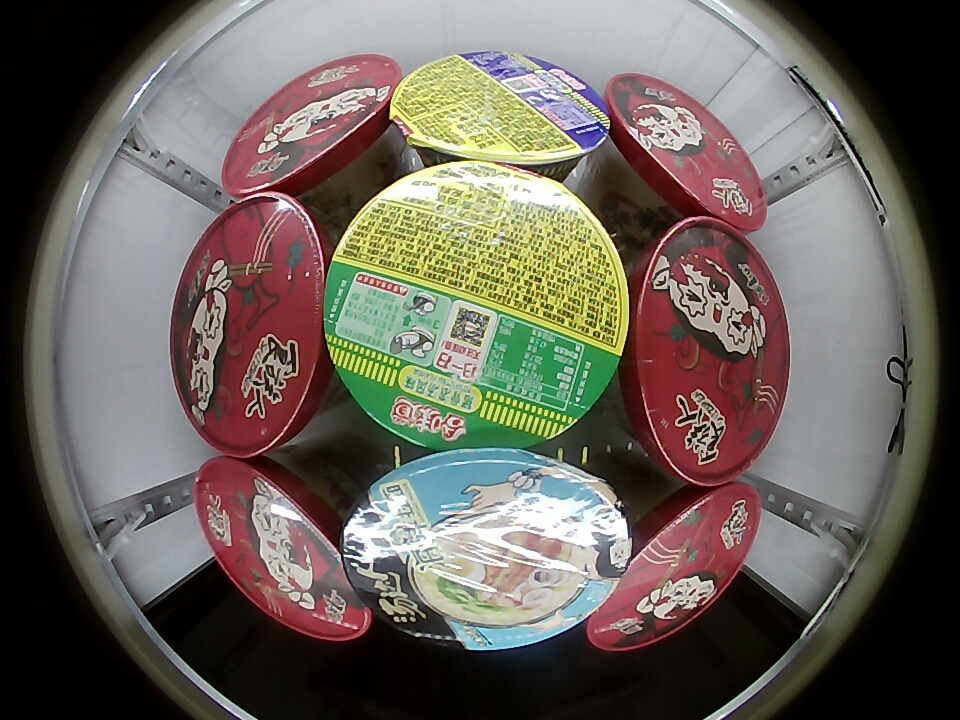heweidao: (390, 50, 613, 173)
heweidao2: (323, 160, 630, 452)
suanlafen: (618, 219, 790, 485), (170, 194, 332, 455), (194, 456, 374, 641), (589, 483, 762, 651), (222, 54, 401, 201), (603, 73, 767, 229)
tangdaren3: (344, 447, 634, 646)
